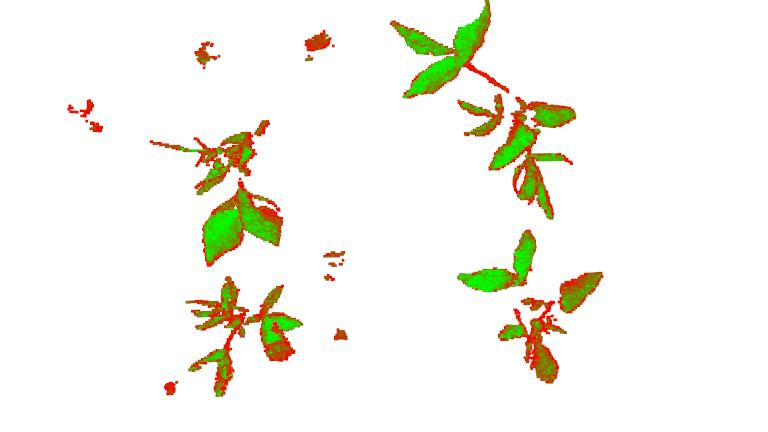mungbean: (389, 1, 570, 226), (456, 225, 604, 388), (169, 114, 294, 269), (178, 278, 309, 397)
